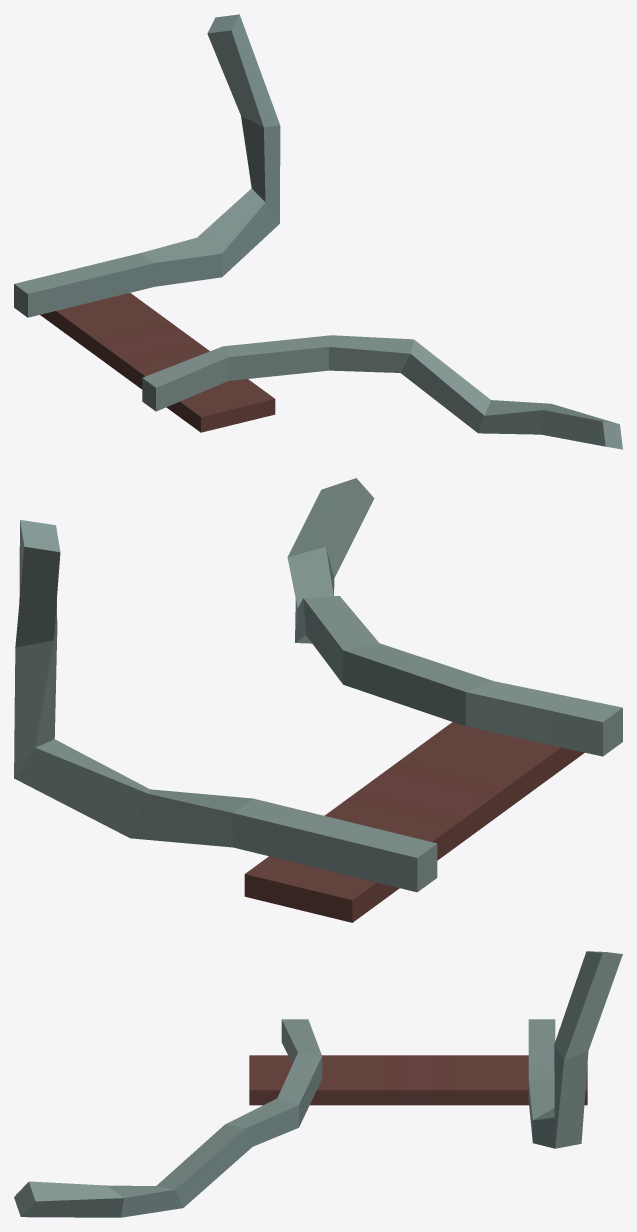
Rendered from raibroken.fbx.
3 views of the same model, one above another, from view 1: azimuth 30°, elevation 25°; view 2: azimuth 150°, elevation 25°; view 3: azimuth 270°, elevation 25° (orthographic). The views are drawn at different scales.
Visible parts, largest first — view 1: Cube.030; view 2: Cube.030; view 3: Cube.030.
Boxes of the visible parts, x1,y1,x2,y2 form: Cube.030: (14, 14, 622, 449); Cube.030: (14, 478, 622, 922); Cube.030: (14, 951, 622, 1217).
Size of the model in its own units: 242 by 176 by 394.
